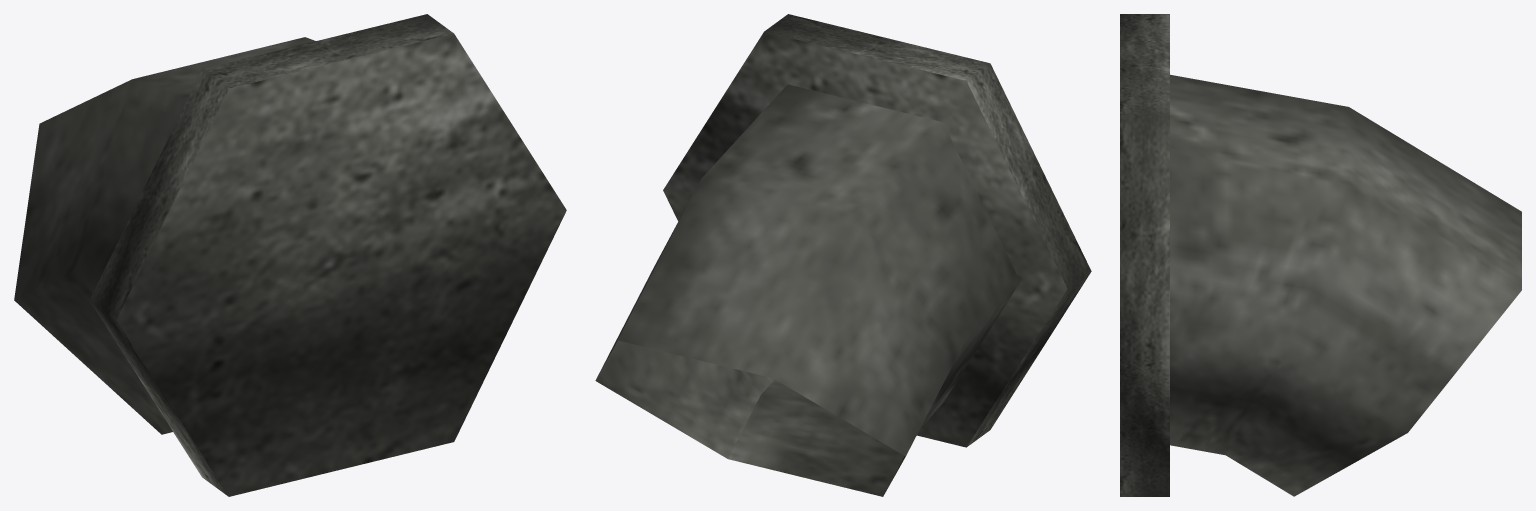
The model's file is large_metal_2_elbow_45.fbx.
3 views of the same model, side by side, from view 1: azimuth 30°, elevation 25°; view 2: azimuth 150°, elevation 25°; view 3: azimuth 270°, elevation 25° (orthographic). The views are drawn at different scales.
Visible parts, largest first — view 1: polySurface670; view 2: polySurface670; view 3: polySurface670.
Part boxes in pixels (box(x1,y1,x2,y2)): polySurface670: box(14, 14, 566, 496); polySurface670: box(595, 14, 1091, 496); polySurface670: box(1120, 14, 1521, 496).
Size of the model in its own units: 1.3 by 1.16 by 1.08.
